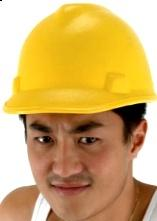helmet: (3, 3, 157, 114)
